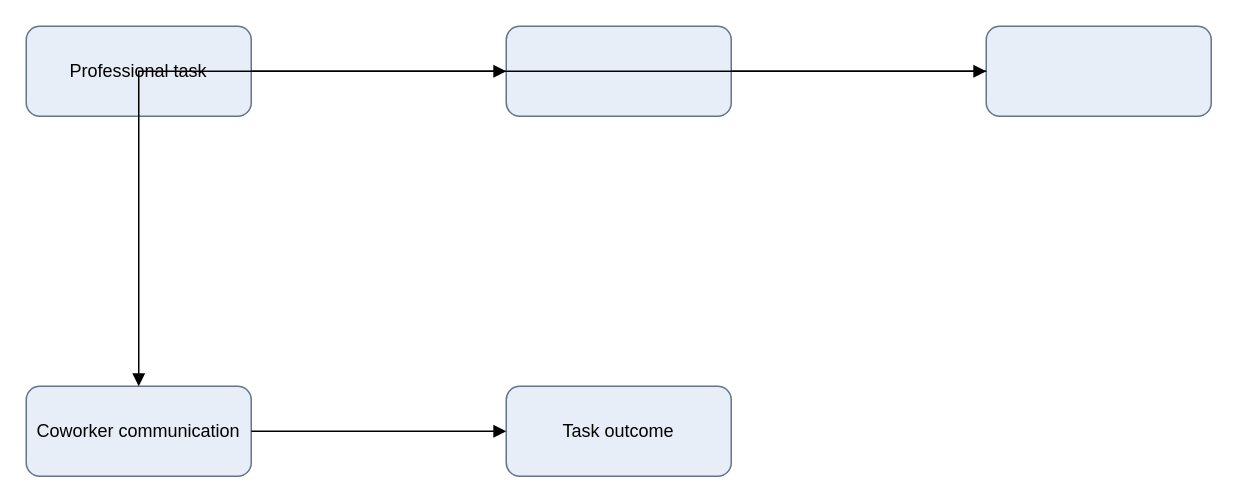
The diagram is 1238 pixels wide and 503 high, and some of its shapes have lost their labels. Each missing label, with the centre of its shape:
Web and code tools: point (618, 70)
Workspace actions: point (1098, 70)
